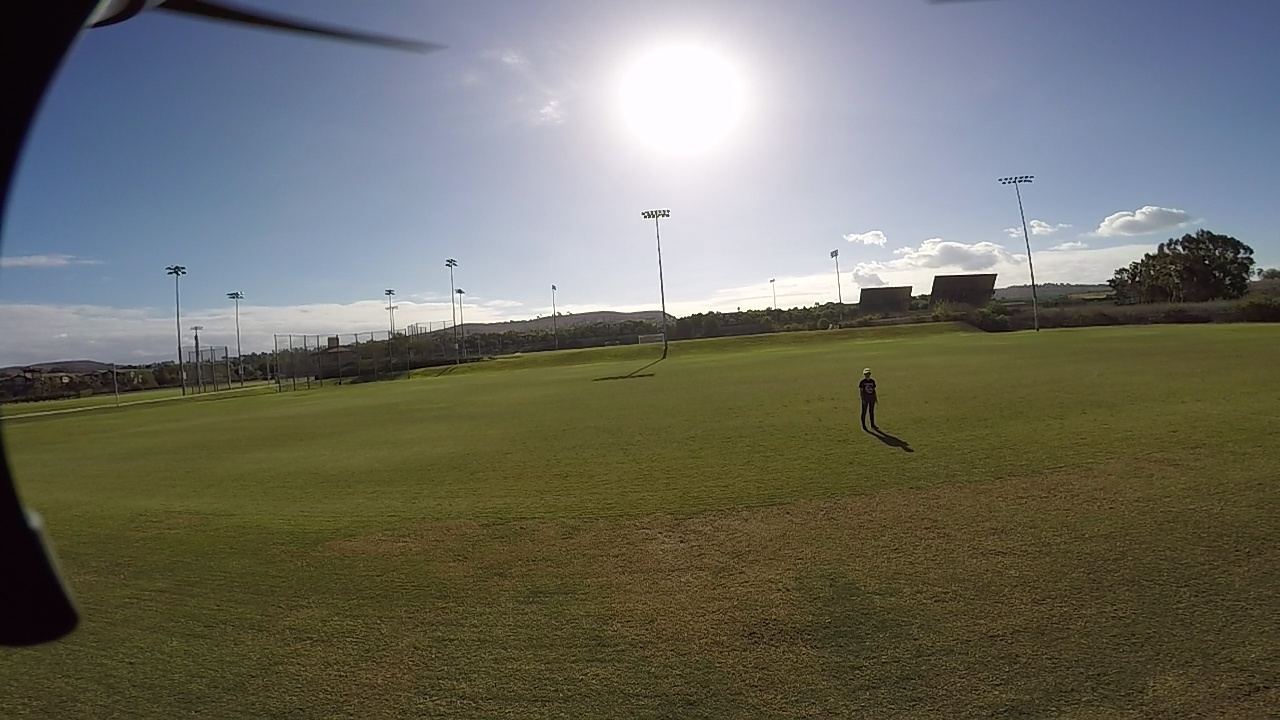person: (857, 359, 911, 447)
